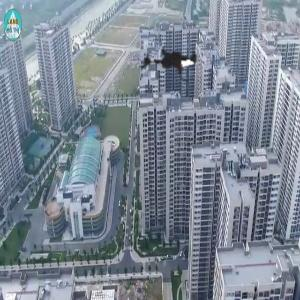drone: (125, 22, 216, 113)
